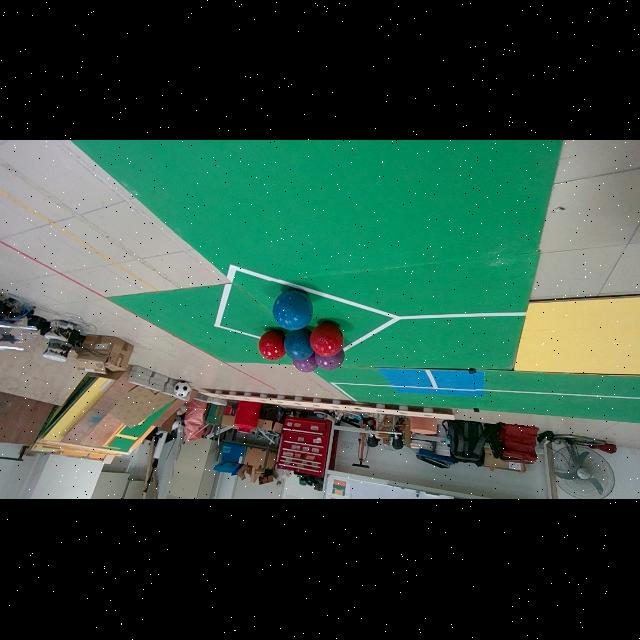B: (272, 290, 313, 332), (284, 329, 313, 361)
P: (314, 350, 345, 371), (293, 355, 317, 373)
R: (309, 323, 343, 357), (258, 331, 285, 361)
